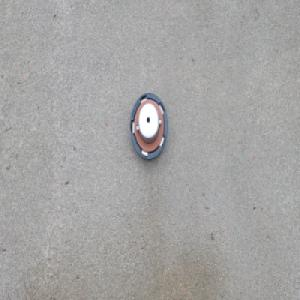FuelCap: (128, 90, 169, 162)
